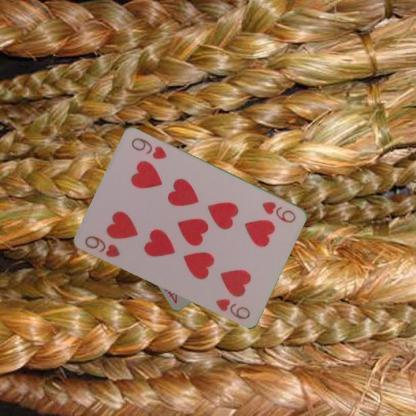9h: (82, 233, 122, 259), (259, 198, 297, 224)
